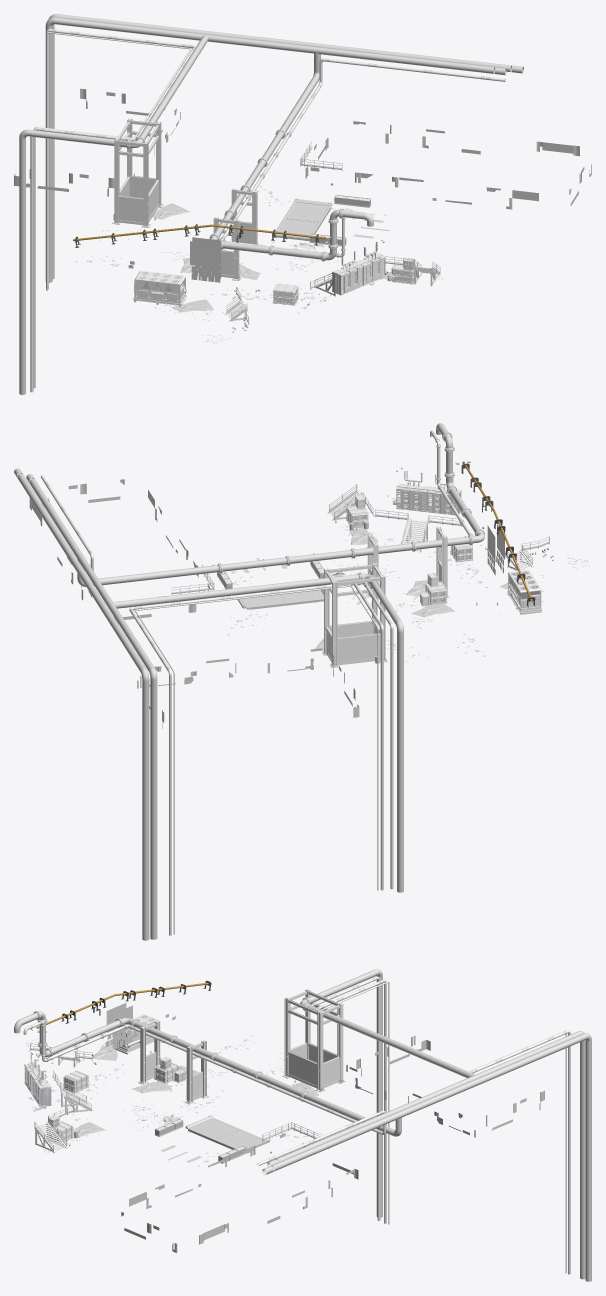
File: cell_170_107.fbx
3 renders of one model, top to bottom at view 1: azimuth 30°, elevation 25°; view 2: azimuth 150°, elevation 25°; view 3: azimuth 270°, elevation 25°, orthographic. The views are drawn at different scales.
Visible parts, largest first — view 1: SM_I_RoadFacility_Pipe_T_03A.mo, SM_I_RoadFacility_Pipe_T_06A.mo, SM_I_RoadFacility_Pipe_T_03A_Decal.mo, SM_H_WalkwaySystem_MetalSupport_01.mo.001, SM_I_RoadFacility_Ground_T_05_Decal.mo, SM_H_FutureTech_Electrical_BigConditioners_01.mo.065, SM_RoadFacility_Road_AsphaltRoad_512_01.mo.025, SM_H_Building_FutureTech_Test_01_ExterWall_04.mo, SM_H_WalkwaySystem_MetalSupport_03.mo.005, SM_H_Government_Office_ServerComponents_05.mo.009, SM_H_WalkwaySystem_MetalSupport_03.mo.001, DBDC076949DA0850569E1587F0F53A68.mo (+3 smaller); view 2: SM_I_RoadFacility_Pipe_T_03A.mo, SM_I_RoadFacility_Pipe_T_06A.mo, SM_H_WalkwaySystem_MetalSupport_01.mo.001, SM_I_RoadFacility_Pipe_T_03A_Decal.mo, SM_I_RoadFacility_Ground_T_05_Decal.mo, SM_H_FutureTech_Electrical_BigConditioners_01.mo.065, SM_RoadFacility_Road_AsphaltRoad_512_01.mo.025, SM_H_Building_FutureTech_Test_01_ExterWall_04.mo, SM_H_Government_Office_ServerComponents_05.mo.010, SM_H_Government_Office_ServerComponents_05.mo.009; view 3: SM_I_RoadFacility_Pipe_T_03A.mo, SM_I_RoadFacility_Pipe_T_06A.mo, SM_H_WalkwaySystem_MetalSupport_01.mo.001, SM_I_RoadFacility_Pipe_T_03A_Decal.mo, SM_I_RoadFacility_Ground_T_05_Decal.mo, SM_RoadFacility_Road_AsphaltRoad_512_01.mo.025, SM_H_WalkwaySystem_MetalSupport_03.mo.001, SM_H_WalkwaySystem_MetalSupport_03.mo.005, SM_H_Building_FutureTech_Test_01_ExterWall_04.mo, SM_I_RoadFacility_Pipe_T_06A_Decal.mo, SM_H_FutureTech_Electrical_BigConditioners_01.mo.065, SM_H_WalkwaySystem_MetalSupport_19.mo.004 (+2 smaller).
Part boxes in pixels (x1,y1,x2,y2): SM_I_RoadFacility_Pipe_T_03A.mo: [19, 14, 512, 394]; SM_I_RoadFacility_Pipe_T_06A.mo: [30, 29, 505, 392]; SM_I_RoadFacility_Pipe_T_03A_Decal.mo: [33, 14, 523, 259]; SM_H_WalkwaySystem_MetalSupport_01.mo.001: [112, 118, 163, 227]; SM_I_RoadFacility_Ground_T_05_Decal.mo: [14, 88, 591, 209]; SM_H_FutureTech_Electrical_BigConditioners_01.mo.065: [133, 270, 186, 306]; SM_RoadFacility_Road_AsphaltRoad_512_01.mo.025: [272, 198, 332, 240]; SM_H_Building_FutureTech_Test_01_ExterWall_04.mo: [73, 224, 325, 247]; SM_H_WalkwaySystem_MetalSupport_03.mo.005: [213, 217, 241, 280]; SM_H_Government_Office_ServerComponents_05.mo.009: [332, 262, 362, 295]; SM_H_WalkwaySystem_MetalSupport_03.mo.001: [231, 188, 257, 249]; DBDC076949DA0850569E1587F0F53A68.mo: [190, 241, 218, 267]; SM_I_RoadFacility_Pipe_T_03A.mo: [17, 423, 484, 940]; SM_I_RoadFacility_Pipe_T_06A.mo: [40, 430, 472, 935]; SM_H_WalkwaySystem_MetalSupport_01.mo.001: [322, 562, 387, 668]; SM_I_RoadFacility_Pipe_T_03A_Decal.mo: [14, 424, 483, 672]; SM_I_RoadFacility_Ground_T_05_Decal.mo: [29, 479, 359, 728]; SM_H_FutureTech_Electrical_BigConditioners_01.mo.065: [507, 570, 541, 614]; SM_RoadFacility_Road_AsphaltRoad_512_01.mo.025: [237, 585, 323, 609]; SM_H_Building_FutureTech_Test_01_ExterWall_04.mo: [461, 461, 535, 606]; SM_H_Government_Office_ServerComponents_05.mo.010: [396, 483, 430, 512]; SM_H_Government_Office_ServerComponents_05.mo.009: [427, 486, 461, 515]; SM_I_RoadFacility_Pipe_T_03A.mo: [14, 969, 591, 1281]; SM_I_RoadFacility_Pipe_T_06A.mo: [23, 976, 570, 1274]; SM_H_WalkwaySystem_MetalSupport_01.mo.001: [282, 988, 345, 1092]; SM_I_RoadFacility_Pipe_T_03A_Decal.mo: [21, 971, 586, 1175]; SM_I_RoadFacility_Ground_T_05_Decal.mo: [121, 1035, 544, 1252]; SM_RoadFacility_Road_AsphaltRoad_512_01.mo.025: [185, 1115, 269, 1149]; SM_H_WalkwaySystem_MetalSupport_03.mo.001: [185, 1040, 208, 1104]; SM_H_WalkwaySystem_MetalSupport_03.mo.005: [138, 1020, 160, 1084]; SM_H_Building_FutureTech_Test_01_ExterWall_04.mo: [36, 980, 211, 1032]; SM_I_RoadFacility_Pipe_T_06A_Decal.mo: [28, 977, 566, 1161]; SM_H_FutureTech_Electrical_BigConditioners_01.mo.065: [112, 1014, 158, 1054]; SM_H_WalkwaySystem_MetalSupport_19.mo.004: [34, 1122, 67, 1153].
Bounding box in the file's own units: 76.23 × 41.37 × 81.03.
